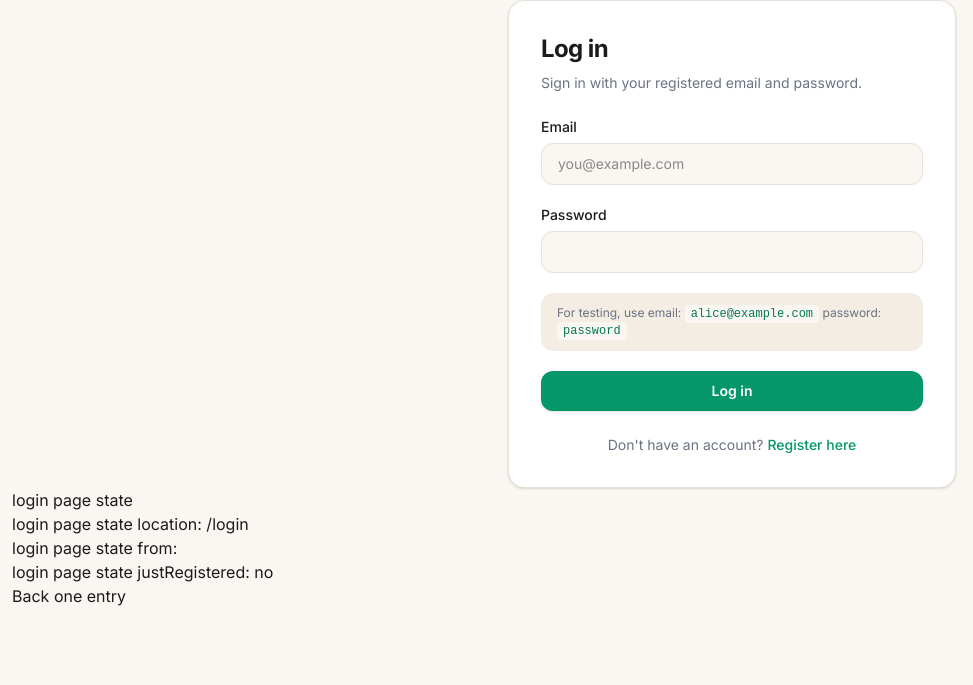
it: shows the backend message on a 401 wrong-credentials response
This screenshot has width=973, height=685.
Type "alice@example.com" into the field labelled "Email".
click(732, 164); type("alice@example.com")  # box [541,143,923,185]
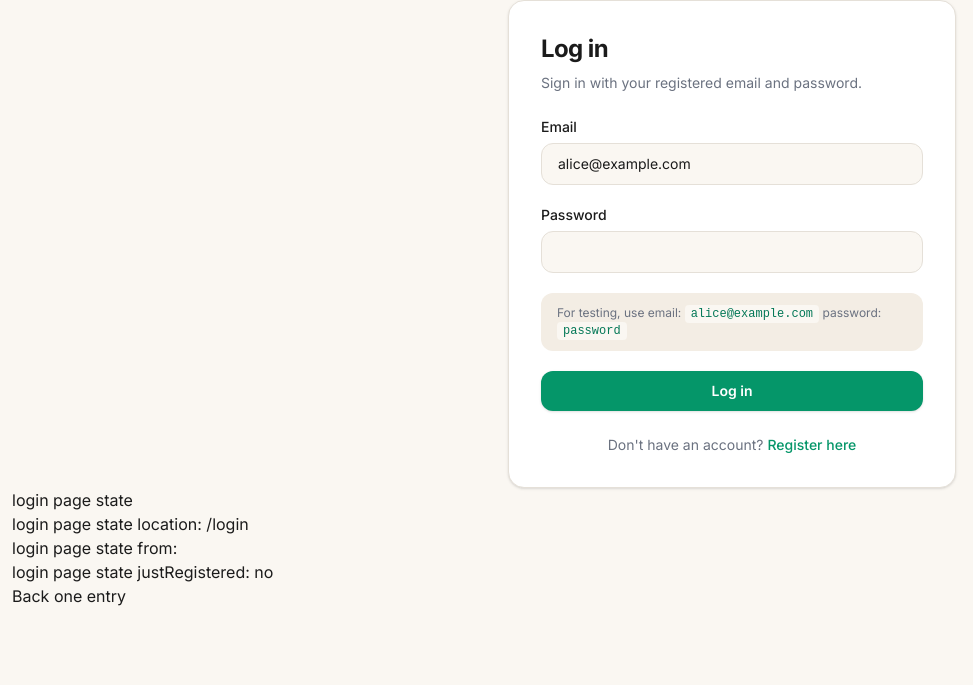
Type "wrongpassword" into the password field labelled "Password".
click(732, 252); type("wrongpassword")  # box [541,231,923,273]
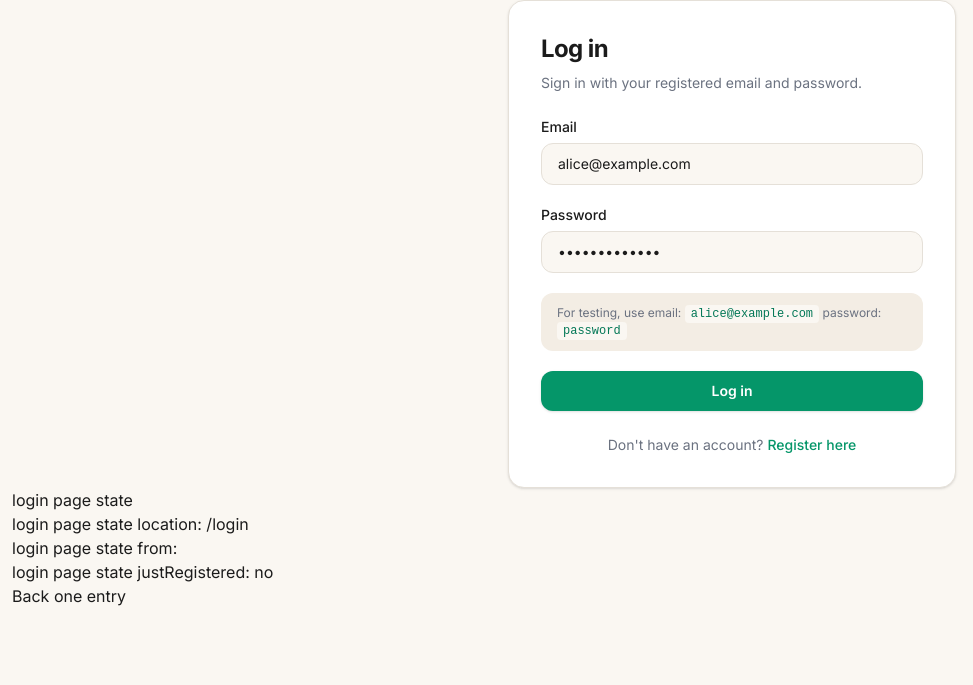
Click the button "Log in".
click(732, 391)  # box [541,371,923,411]
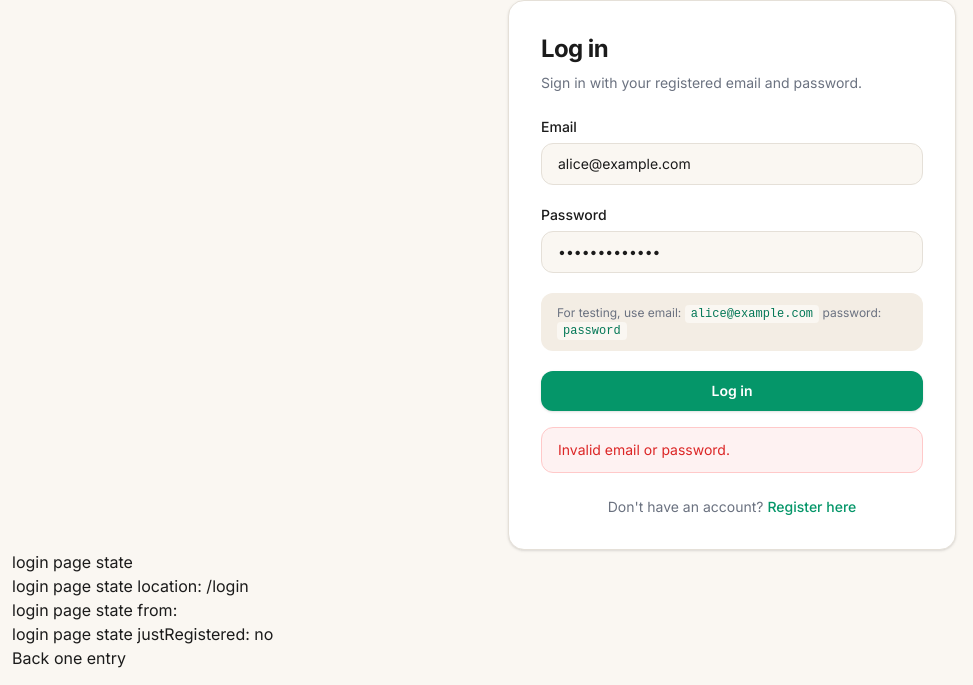
expect the message reads "Invalid email or password.": met, box [558,441,730,458]
